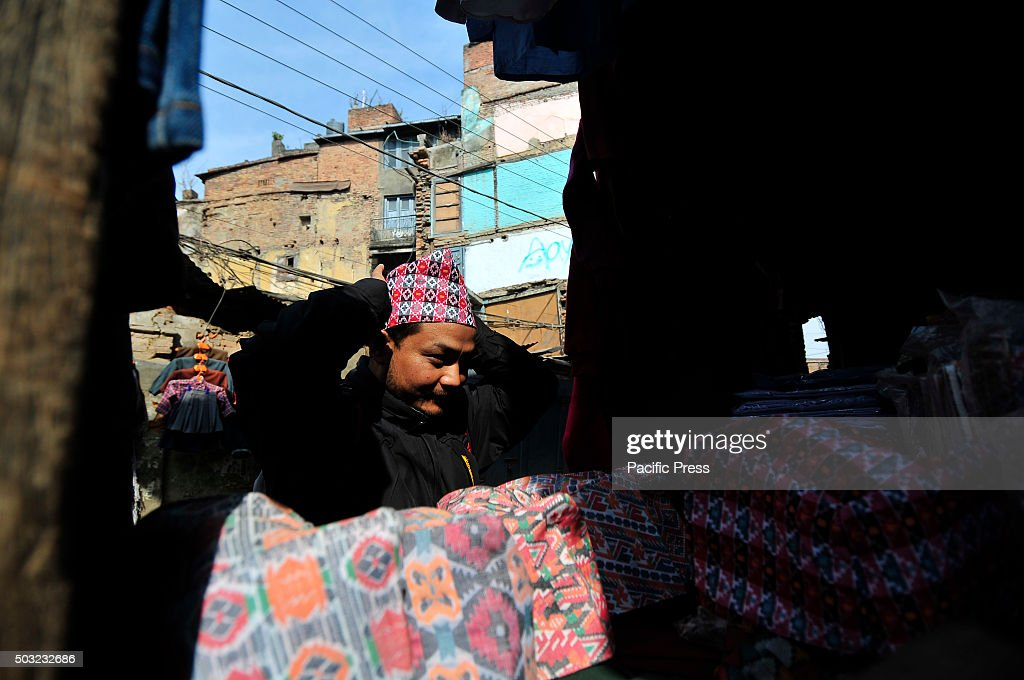human: (227, 247, 597, 528)
